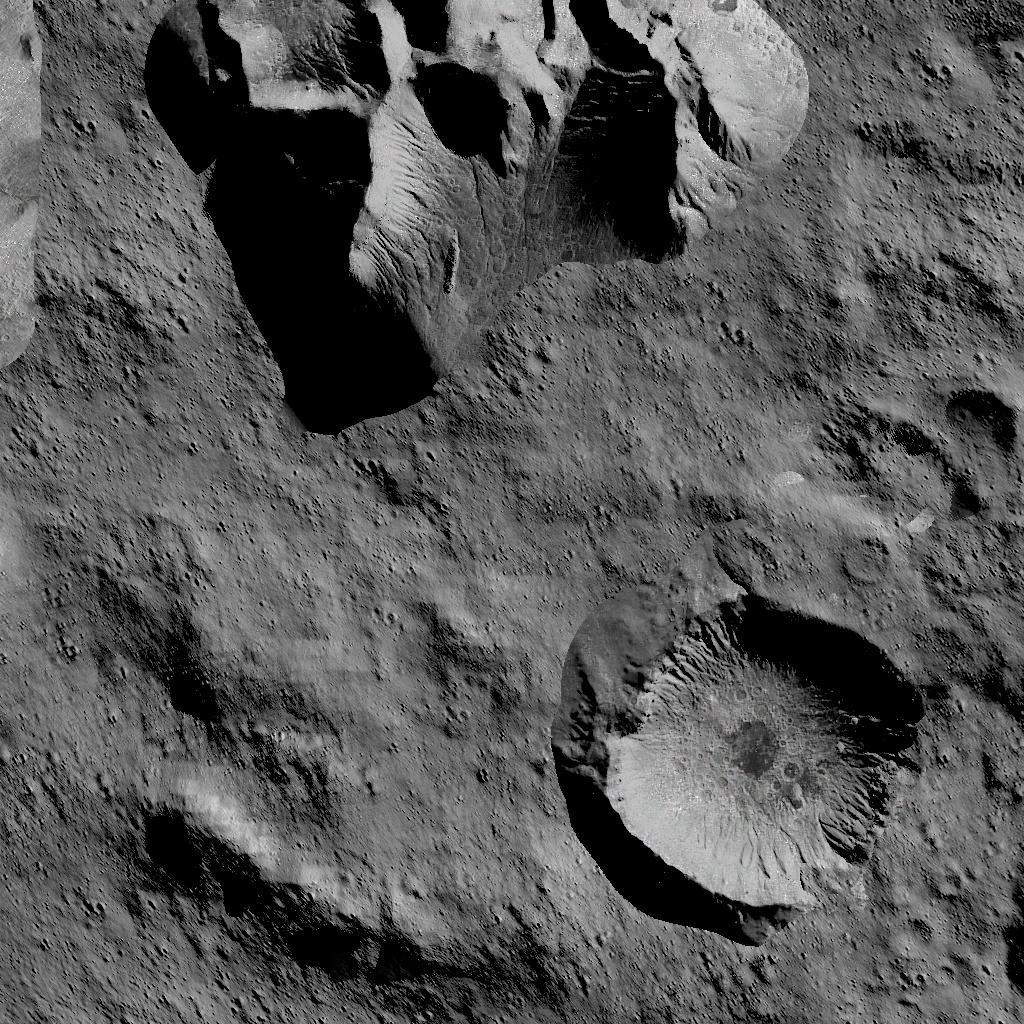Boulders: (146, 0, 805, 428), (138, 785, 580, 993), (0, 0, 41, 373)
Crater: (604, 590, 920, 913)
Plan surface: (823, 2, 1024, 376), (1, 662, 126, 1024), (594, 925, 990, 1024)
